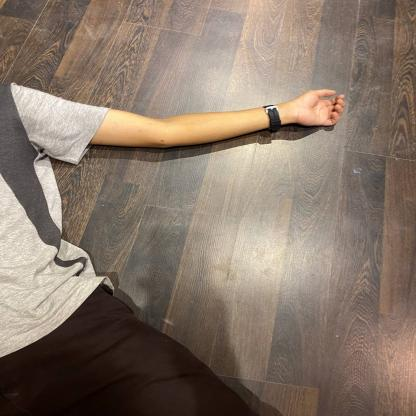hand: (89, 86, 358, 152)
